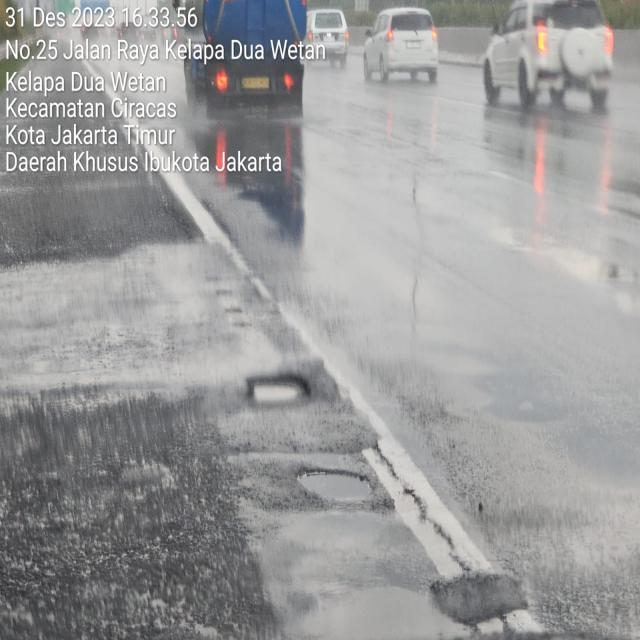Buraco: (291, 464, 379, 508), (242, 372, 314, 411)
